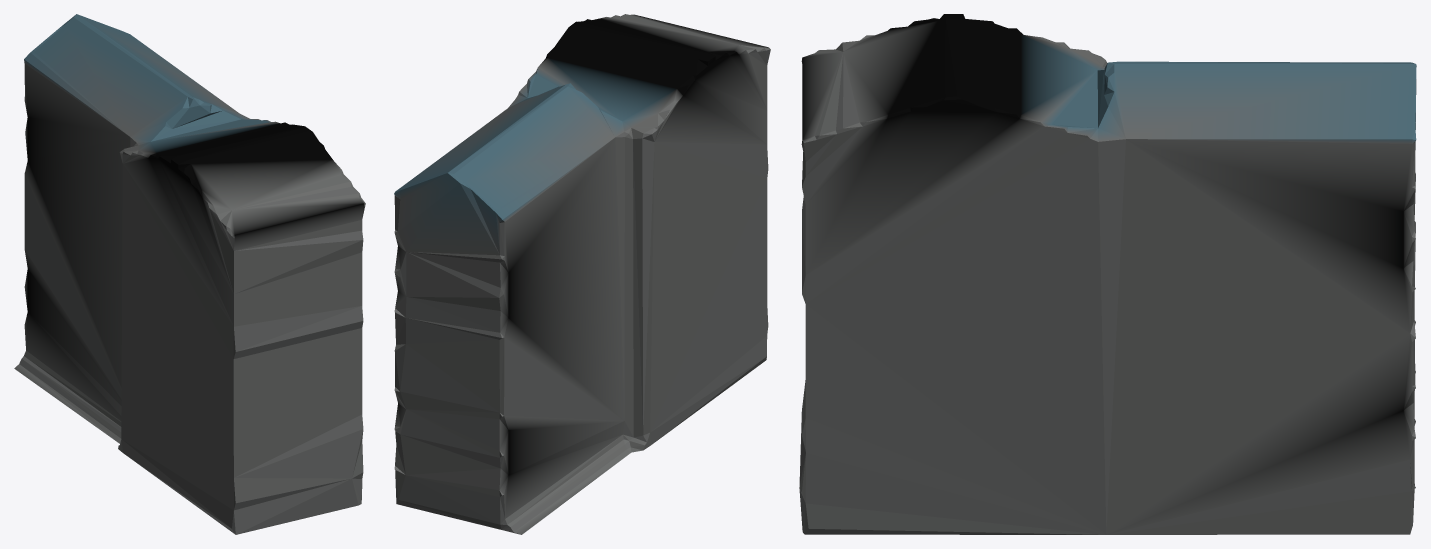
File: Apartment Buildings(1).glb
3 renders of one model, left to right at view 1: azimuth 30°, elevation 25°; view 2: azimuth 150°, elevation 25°; view 3: azimuth 270°, elevation 25°, orthographic. The views are drawn at different scales.
Visible parts, largest first — view 1: Root; view 2: Root; view 3: Root.
Part boxes in pixels (left/top/right/bottom): Root: left=14, top=14, right=365, bottom=534; Root: left=394, top=14, right=770, bottom=534; Root: left=799, top=14, right=1416, bottom=534.
Bounding box in the file's own units: 11.63 × 27.73 × 35.05.
